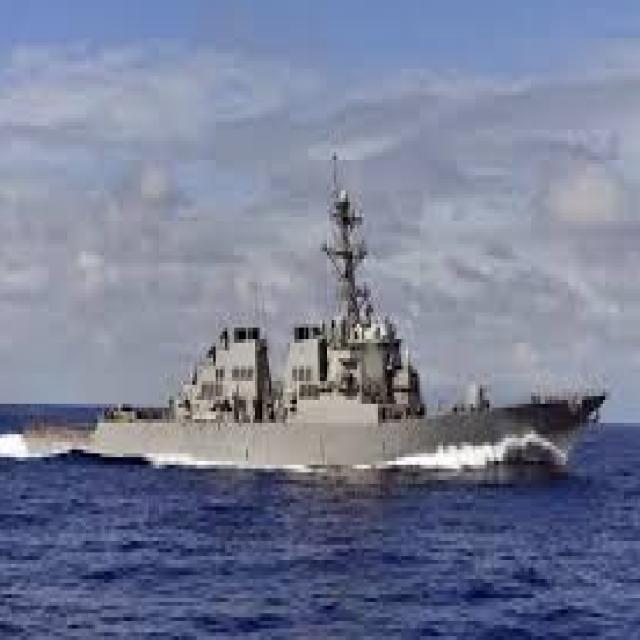navalvessels: (22, 147, 620, 499)
